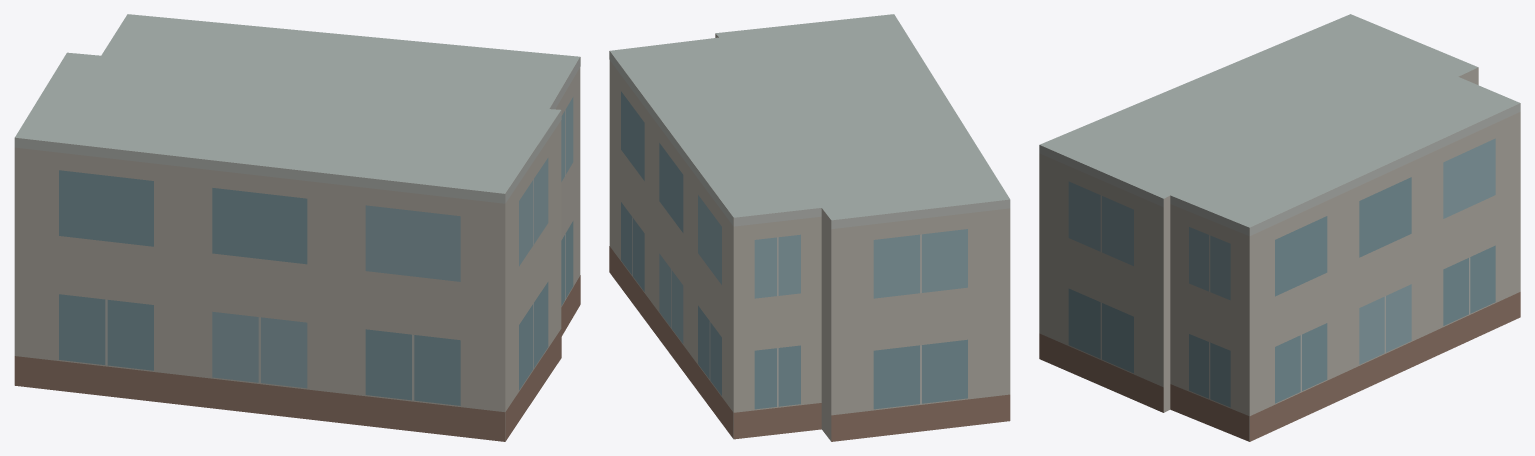
Rendered from survey-upis-32673491.glb.
3 views of the same model, side by side, from view 1: azimuth 30°, elevation 25°; view 2: azimuth 150°, elevation 25°; view 3: azimuth 270°, elevation 25° (orthographic). The views are drawn at different scales.
Parts seen in each view (by area): view 1: survey-upis-32673491.tmp; view 2: survey-upis-32673491.tmp; view 3: survey-upis-32673491.tmp.
Boxes of the visible parts, left/top/right/bottom form: survey-upis-32673491.tmp: left=14, top=14, right=580, bottom=441; survey-upis-32673491.tmp: left=609, top=14, right=1010, bottom=441; survey-upis-32673491.tmp: left=1039, top=14, right=1520, bottom=441.
Size of the model in its own units: 13.06 by 6.1 by 12.43.
